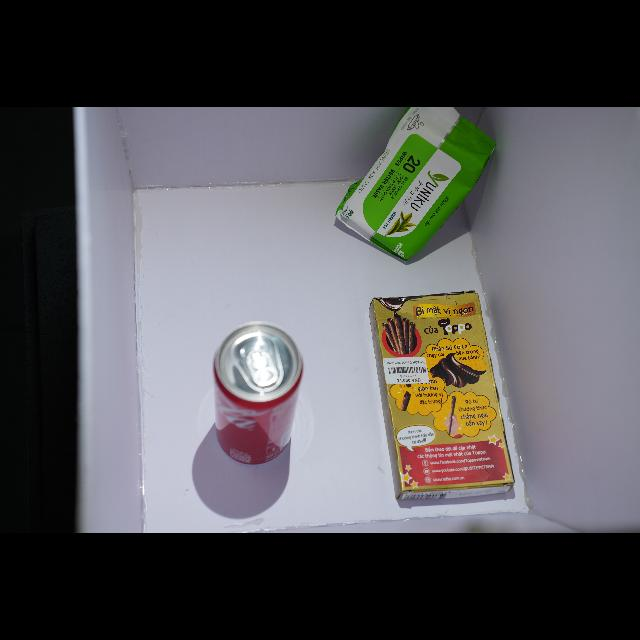banh_toppo_socola: (371, 291, 514, 500)
coca_cola: (214, 323, 303, 464)
khan_giay: (336, 107, 495, 260)
